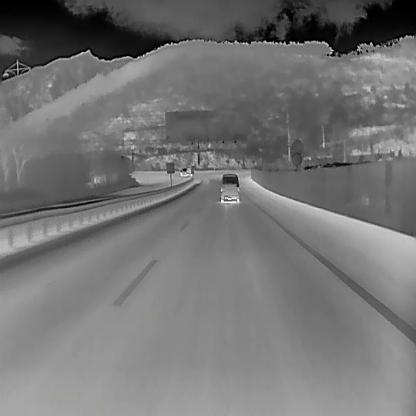car: (220, 172, 239, 203), (179, 166, 192, 176)
